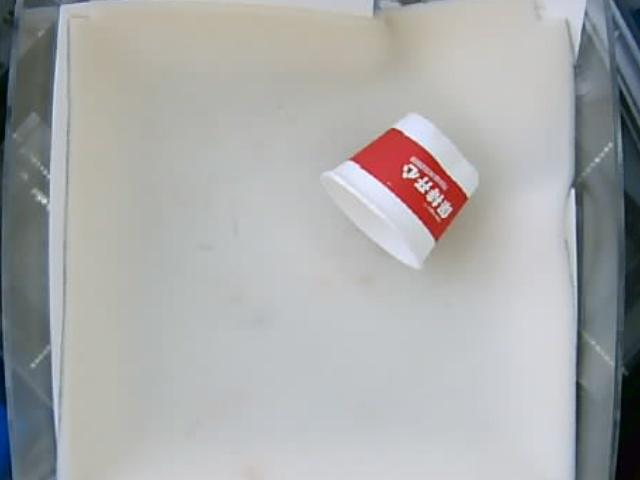Cup: (319, 113, 483, 265)
